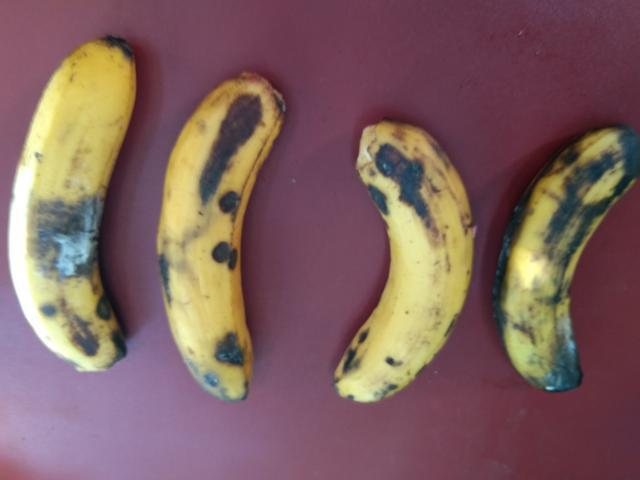overripe: (143, 48, 312, 425), (327, 101, 485, 415)
rotten: (0, 26, 161, 387), (479, 104, 639, 462)
